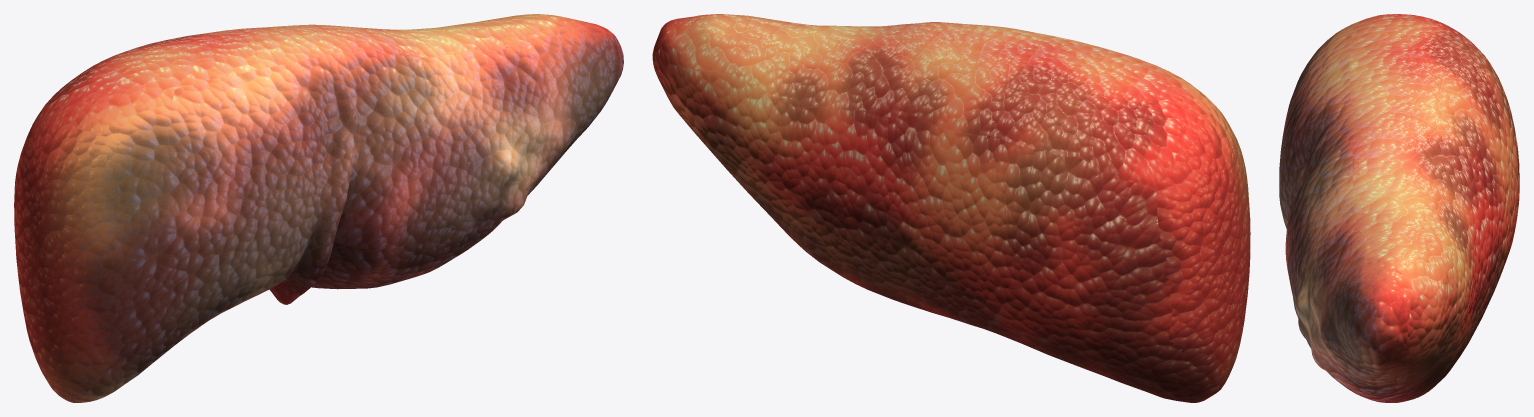
File: hati.fbx
3 views of the same model, side by side, from view 1: azimuth 30°, elevation 25°; view 2: azimuth 150°, elevation 25°; view 3: azimuth 270°, elevation 25° (orthographic). The views are drawn at different scales.
Visible parts, largest first — view 1: liver_LP_Cube.002; view 2: liver_LP_Cube.002; view 3: liver_LP_Cube.002.
Boxes of the visible parts, <box> form: liver_LP_Cube.002: <box>14,14,623,402</box>; liver_LP_Cube.002: <box>652,14,1250,402</box>; liver_LP_Cube.002: <box>1279,14,1519,402</box>.
Bounding box in the file's own units: 187 × 97.48 × 70.41.
